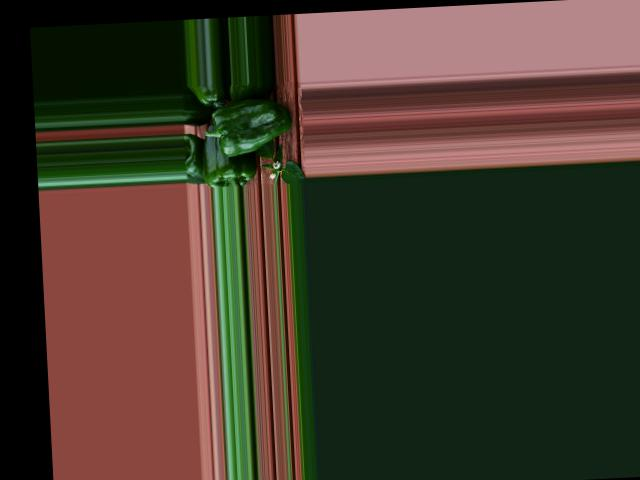bell_pepper: (185, 83, 224, 111)
